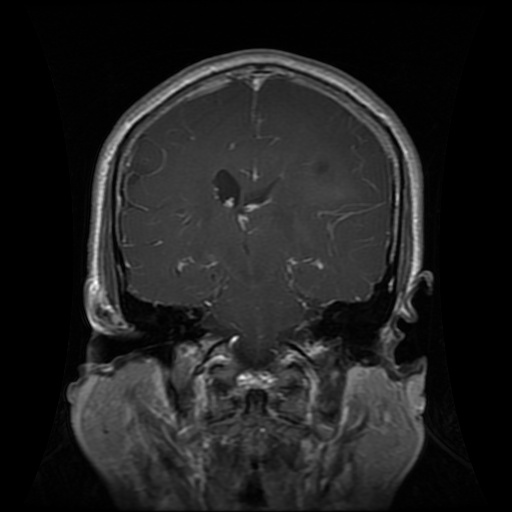glioma: (300, 151, 341, 188)
